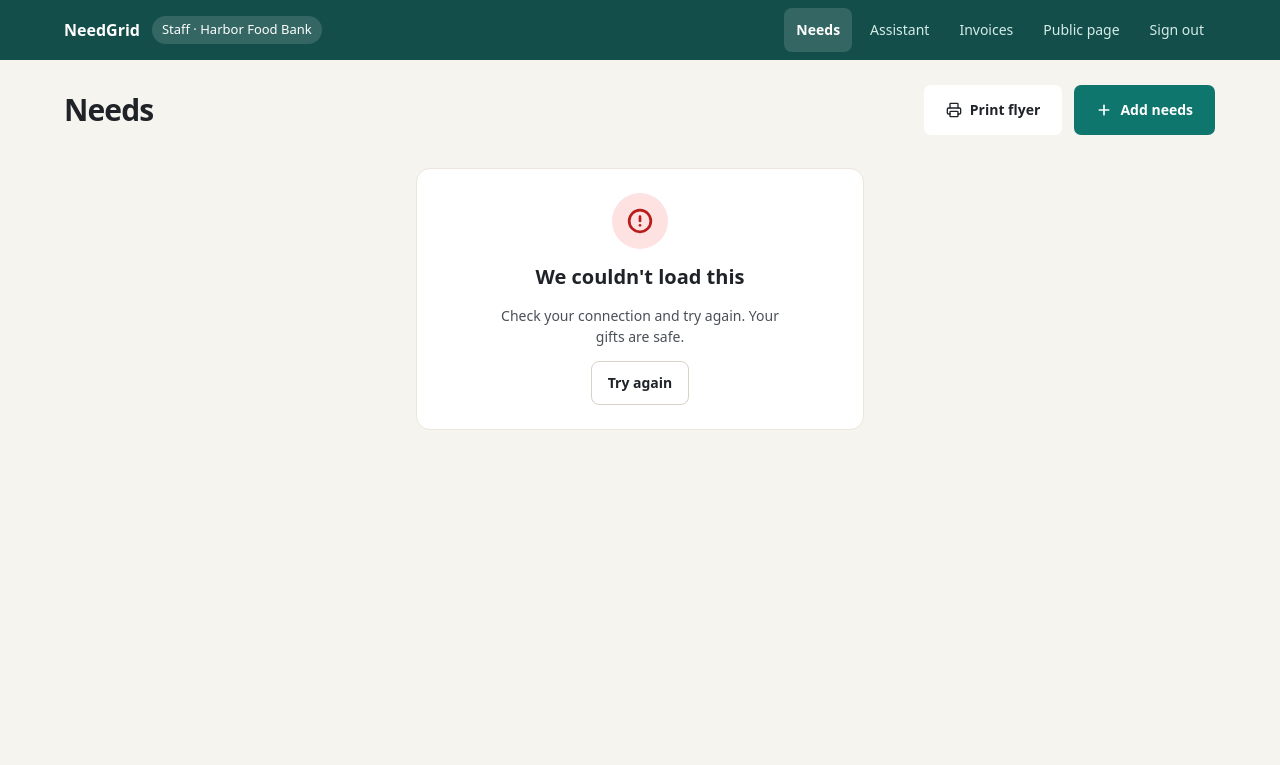
Scenario: Staff console /staff › shows an error with Try again when the list can't load
Click the button "Try again" at (640, 383), box top-left (591, 361), bottom-right (689, 405)
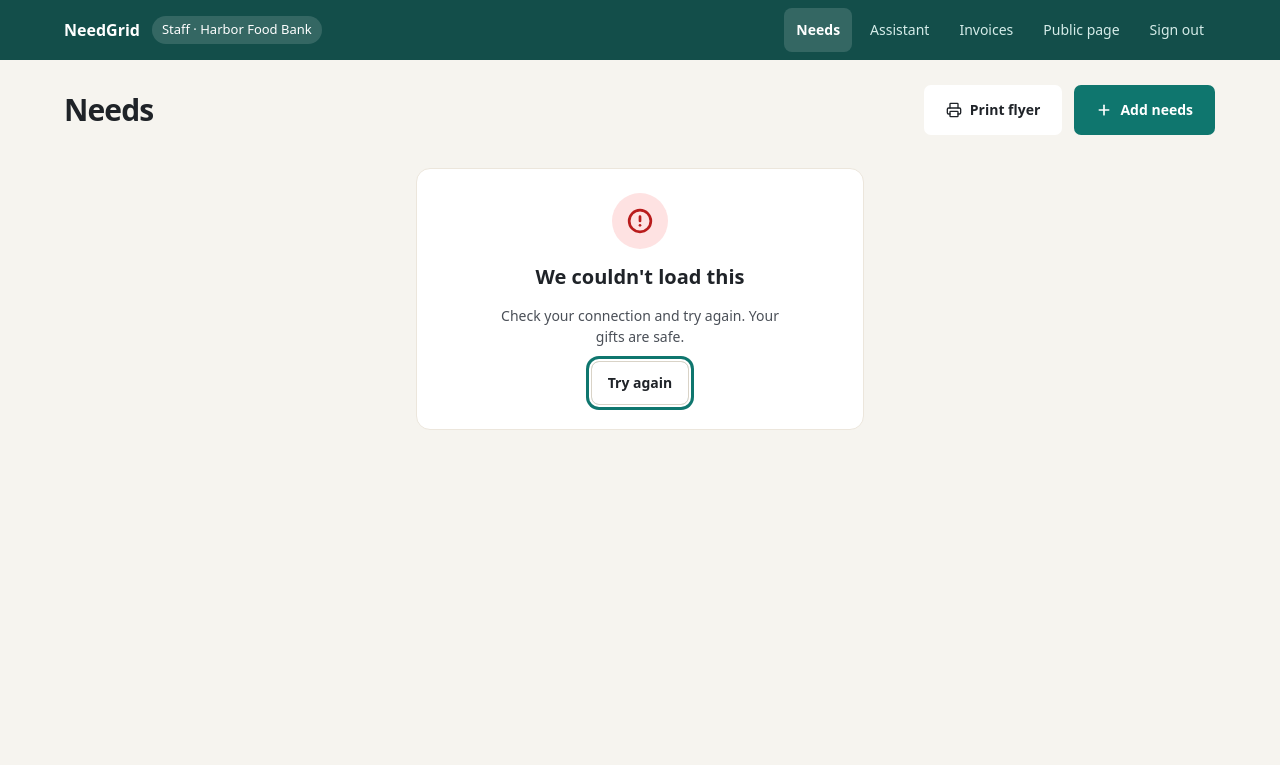
Click the button "Try again" at (640, 383), box top-left (591, 361), bottom-right (689, 405)
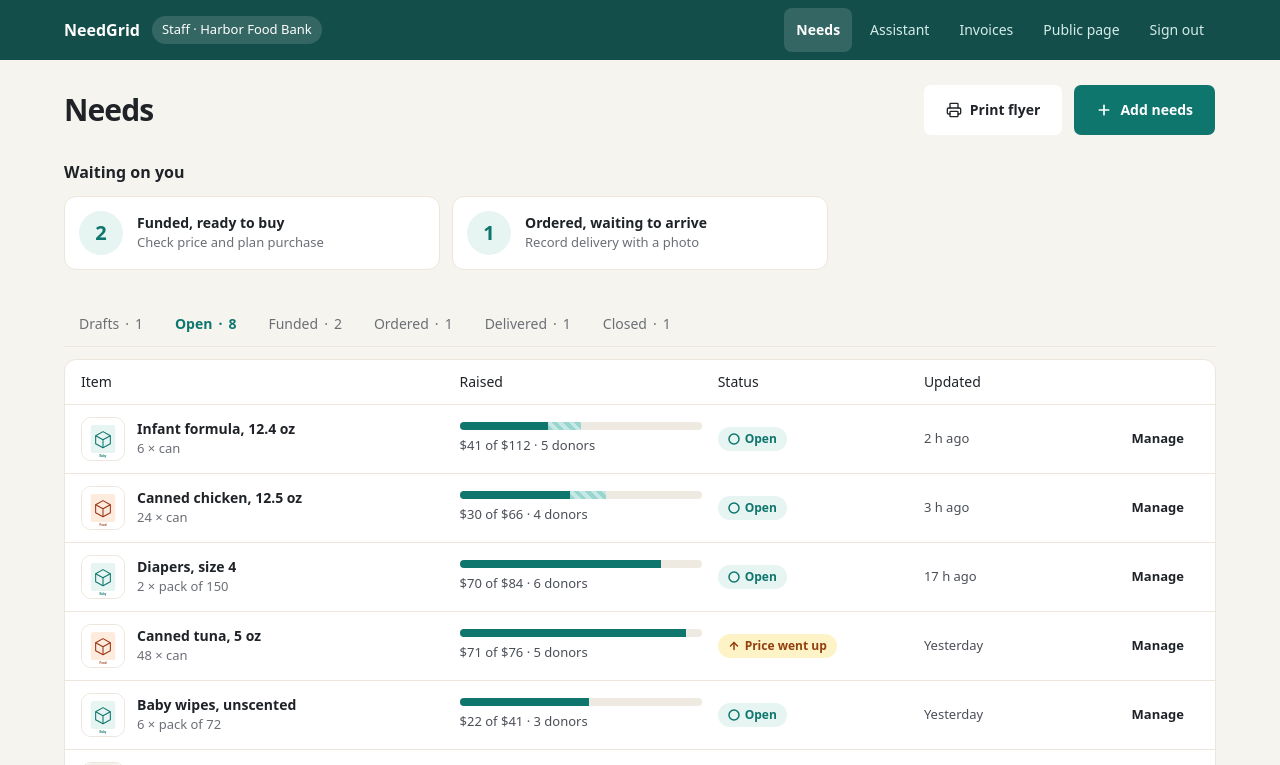
Now the tab named "Open 8" is shown, box top-left (160, 302), bottom-right (251, 346)
